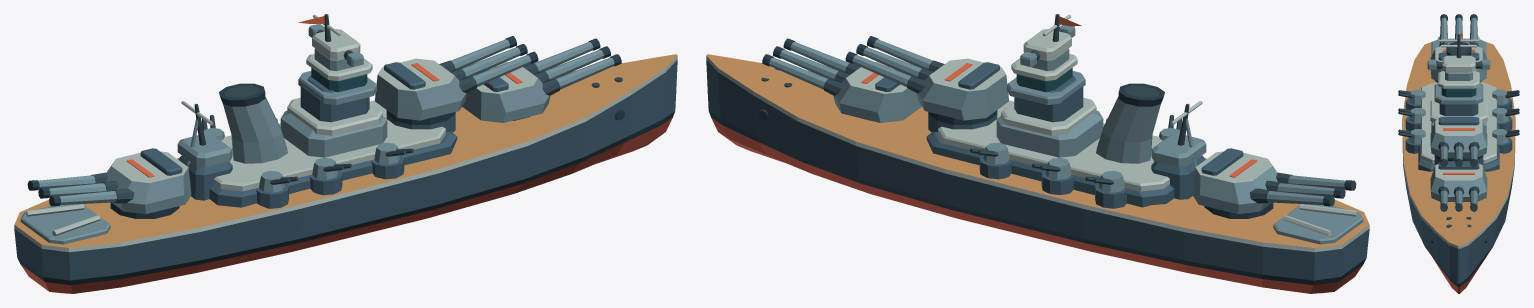
File: yamato_battleship.glb
3 views of the same model, side by side, from view 1: azimuth 30°, elevation 25°; view 2: azimuth 150°, elevation 25°; view 3: azimuth 270°, elevation 25° (orthographic). The views are drawn at different scales.
Visible parts, largest first — view 1: yamato_battleship; view 2: yamato_battleship; view 3: yamato_battleship.
Part boxes in pixels (x1,y1,x2,y2): yamato_battleship: (14,14,677,293); yamato_battleship: (706,14,1369,293); yamato_battleship: (1398,14,1519,293).
Size of the model in its own units: 3.73 by 1.15 by 0.8611.
